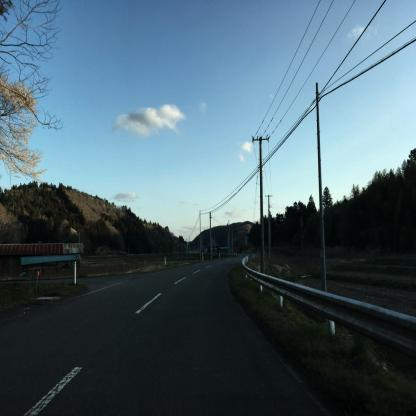Someiyoshino: (0, 55, 50, 194)
